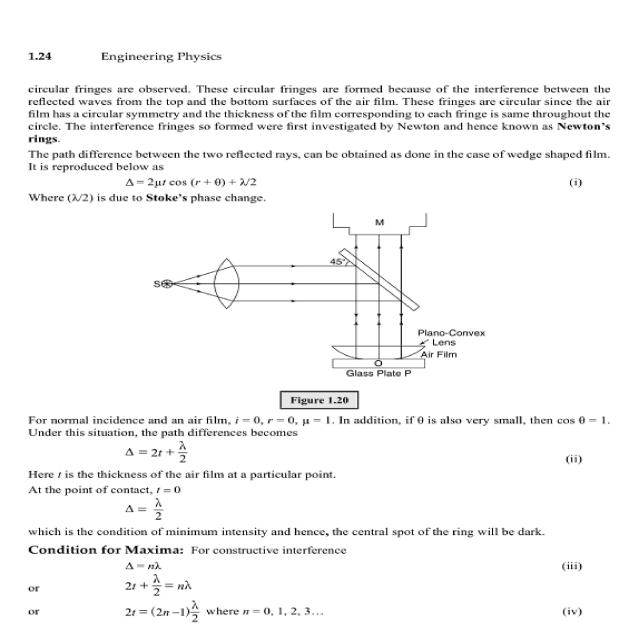diagram: (72, 200, 588, 409)
